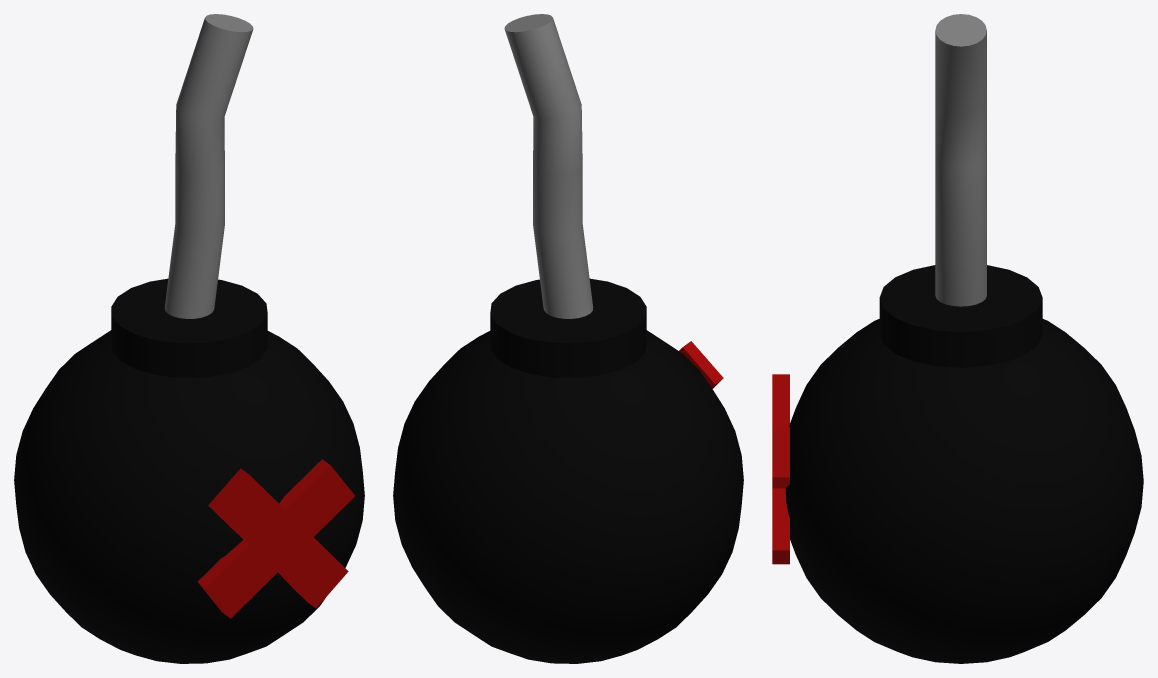
Rendered from Proj_Bomb.fbx.
3 views of the same model, side by side, from view 1: azimuth 30°, elevation 25°; view 2: azimuth 150°, elevation 25°; view 3: azimuth 270°, elevation 25° (orthographic). The views are drawn at different scales.
Parts seen in each view (by area): view 1: Proj_Bomb; view 2: Proj_Bomb; view 3: Proj_Bomb.
Part boxes in pixels (x1,y1,x2,y2): Proj_Bomb: (14, 14, 364, 663); Proj_Bomb: (393, 14, 743, 663); Proj_Bomb: (772, 14, 1143, 663).
Bounding box in the file's own units: 0.5 × 0.9704 × 0.5086.
